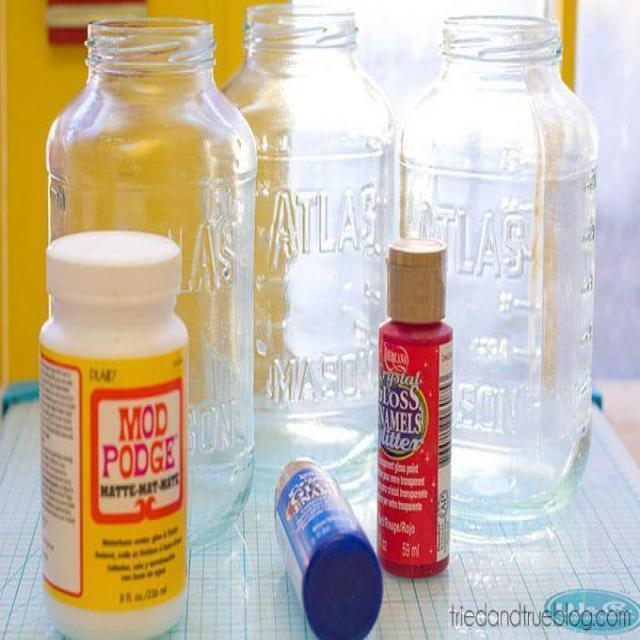glass: (49, 14, 256, 558)
